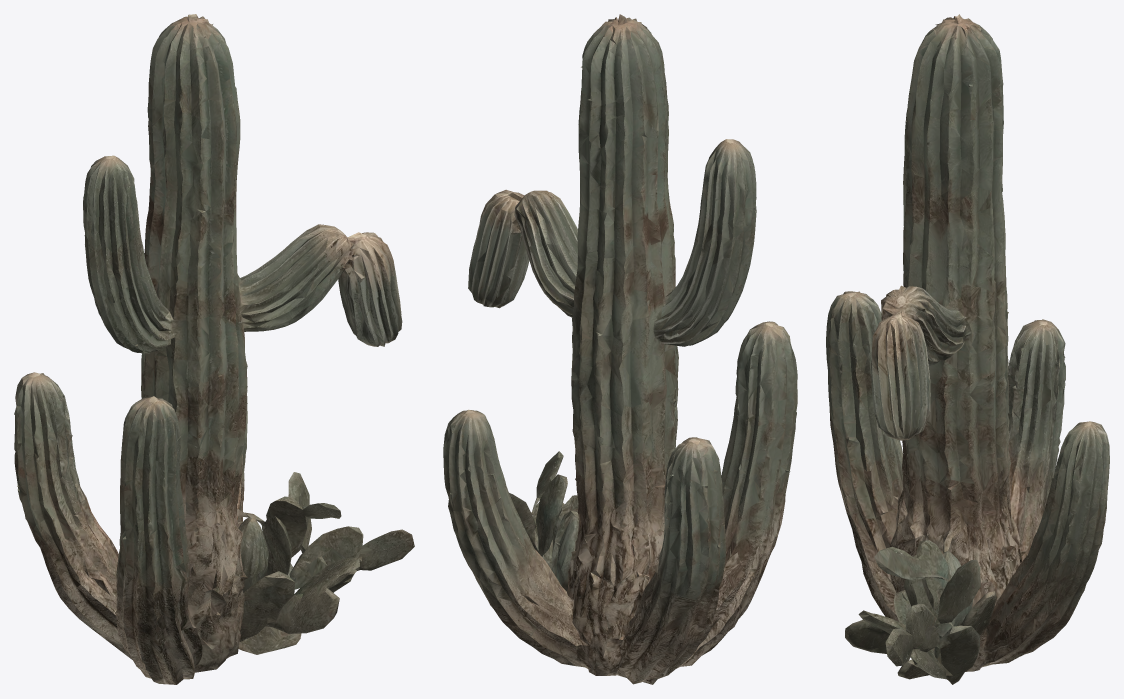
Rendered from cactus.glb.
The picture shows the model from 3 angles, left to right: view 1: azimuth 30°, elevation 25°; view 2: azimuth 150°, elevation 25°; view 3: azimuth 270°, elevation 25°; orthographic projection.
Parts seen in each view (by area): view 1: mesh_node; view 2: mesh_node; view 3: mesh_node.
Boxes of the visible parts, x1,y1,x2,y2 form: mesh_node: (14,14,414,684); mesh_node: (443,14,797,684); mesh_node: (826,14,1109,684).
Size of the model in its own units: 1 by 1.9 by 0.7635.
1 material, 1 textured.
